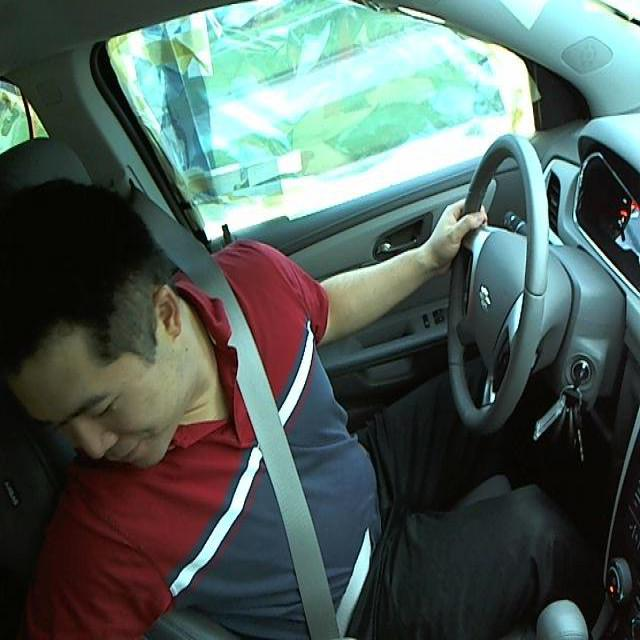seatbelt: (188, 293, 372, 639)
